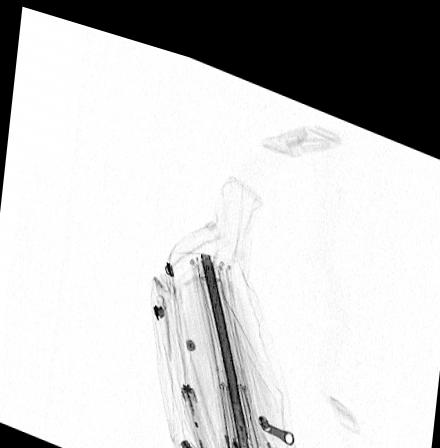Lighter: (179, 372, 209, 441)
